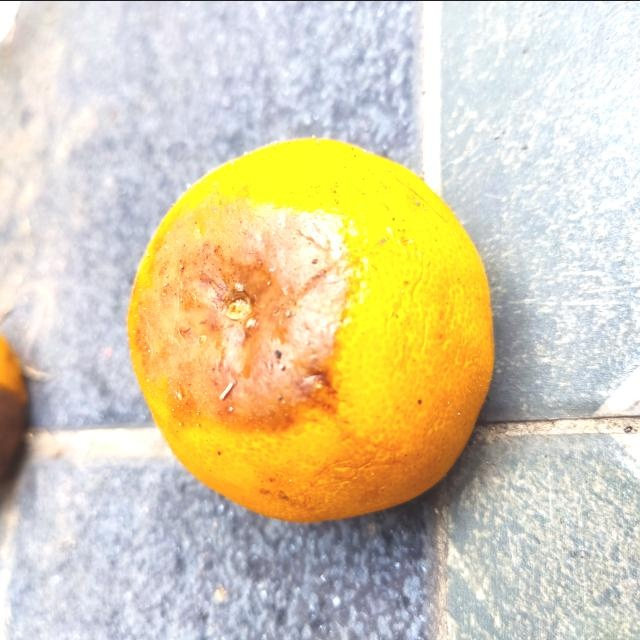agrume: (125, 135, 496, 521)
